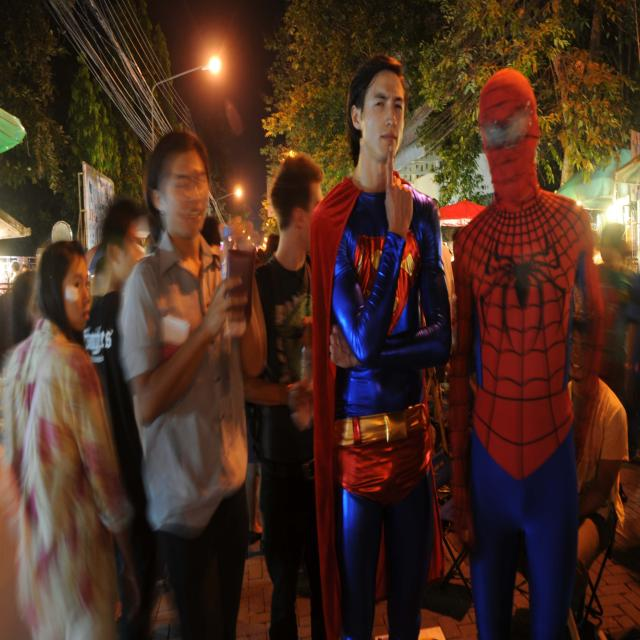body: (445, 65, 607, 640), (307, 47, 455, 640), (114, 122, 270, 640), (235, 149, 348, 640), (0, 231, 134, 640), (82, 195, 156, 638), (560, 310, 628, 634), (592, 220, 639, 383), (244, 392, 266, 560), (0, 274, 39, 348), (203, 210, 229, 260), (259, 228, 284, 254), (8, 260, 20, 284)
